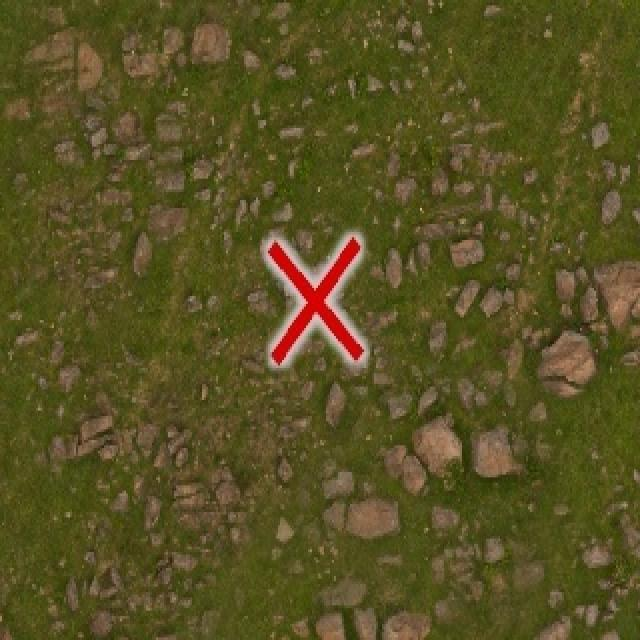x_marker: (267, 236, 363, 361)
